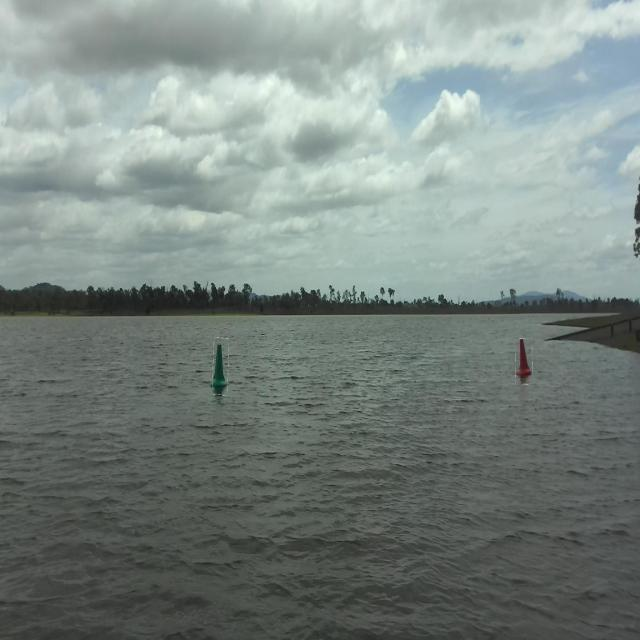Green_Buoy: (208, 332, 232, 392)
Red_Buoy: (512, 335, 534, 382)
